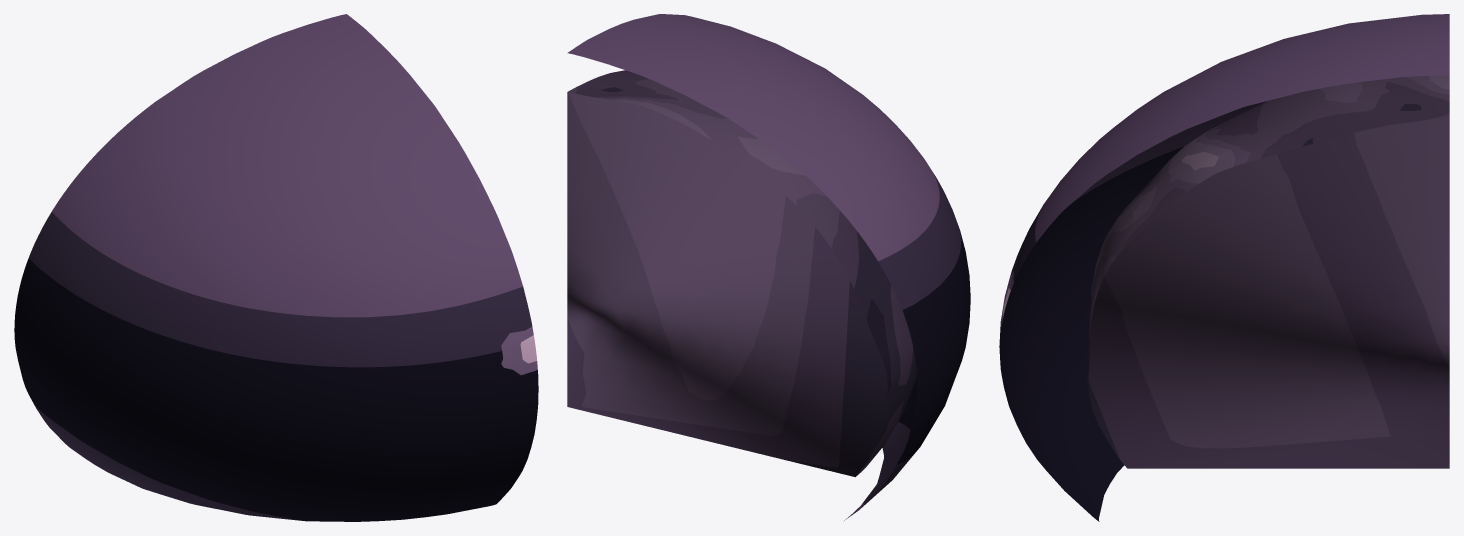
File: glass_globe_bl_284.glb
The picture shows the model from 3 angles, left to right: view 1: azimuth 30°, elevation 25°; view 2: azimuth 150°, elevation 25°; view 3: azimuth 270°, elevation 25°; orthographic projection. The views are drawn at different scales.
Parts seen in each view (by area): view 1: glass_globe_bl; view 2: glass_globe_bl; view 3: glass_globe_bl.
Boxes of the visible parts, x1,y1,x2,y2 form: glass_globe_bl: (14,14,538,521); glass_globe_bl: (567,14,970,520); glass_globe_bl: (999,14,1449,521).
Size of the model in its own units: 22.88 by 25.09 by 22.9.
